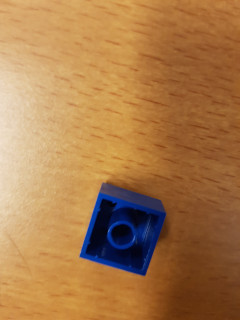2x2 blue: (78, 181, 167, 279)
